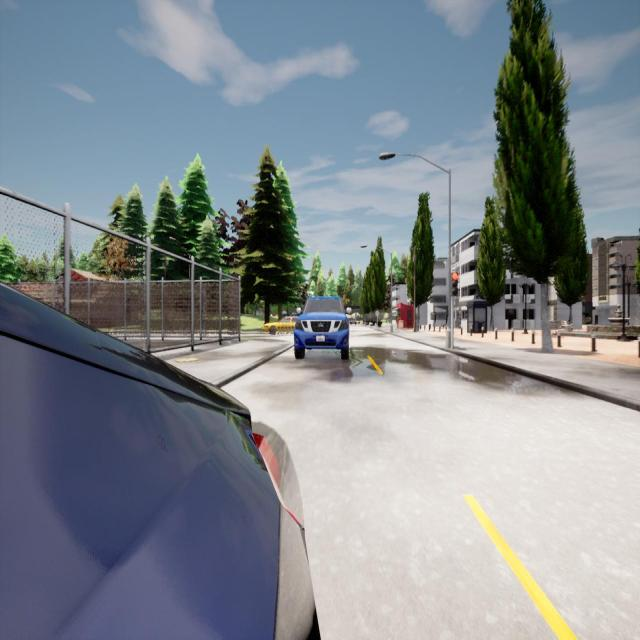Traffic_Signs: (376, 311, 380, 316)
Vehicle: (0, 284, 314, 638), (294, 296, 349, 359), (261, 316, 295, 334), (350, 318, 356, 325)
traffic_light: (451, 272, 458, 294)
